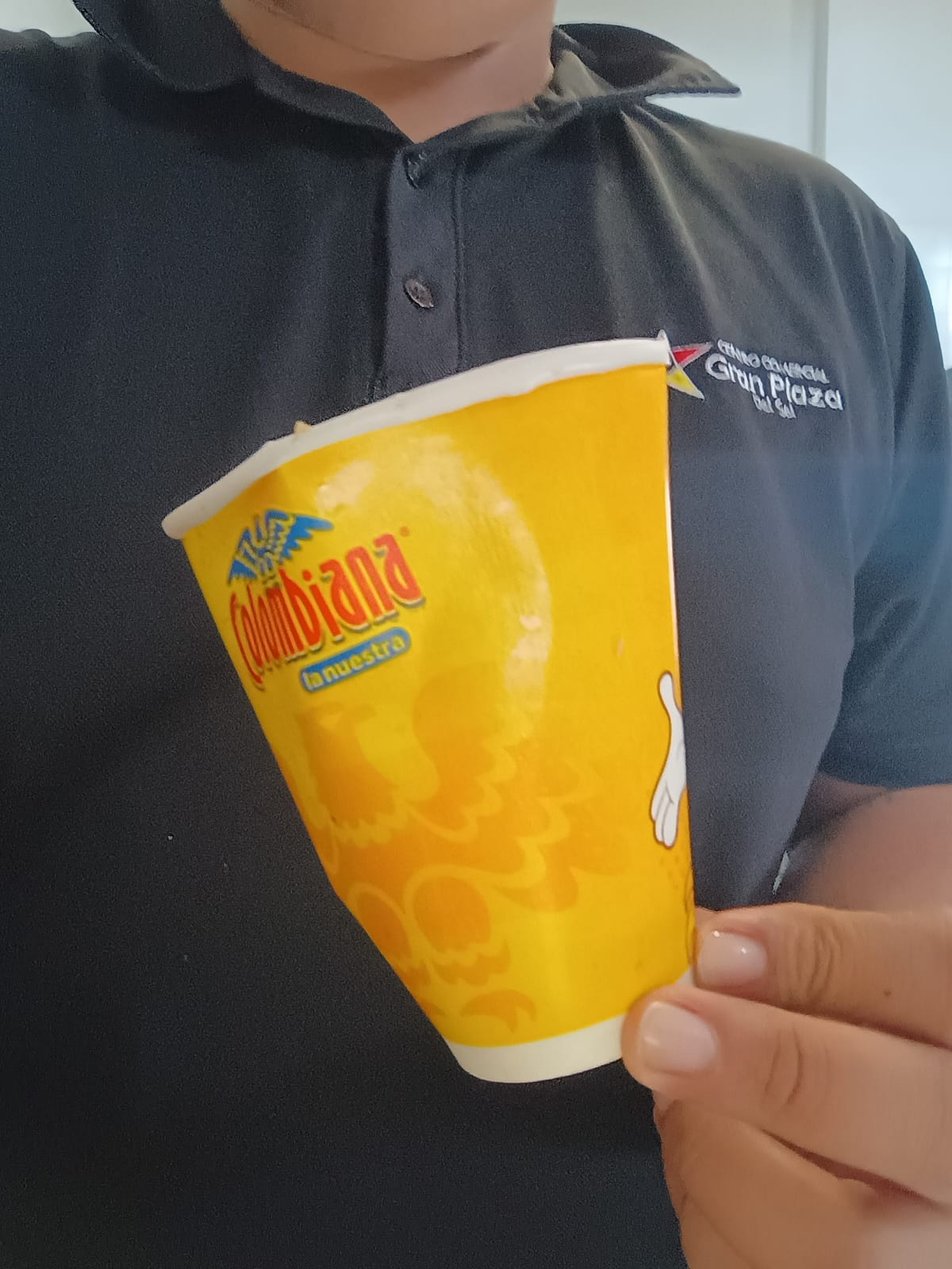Carton: (161, 342, 703, 1087)
